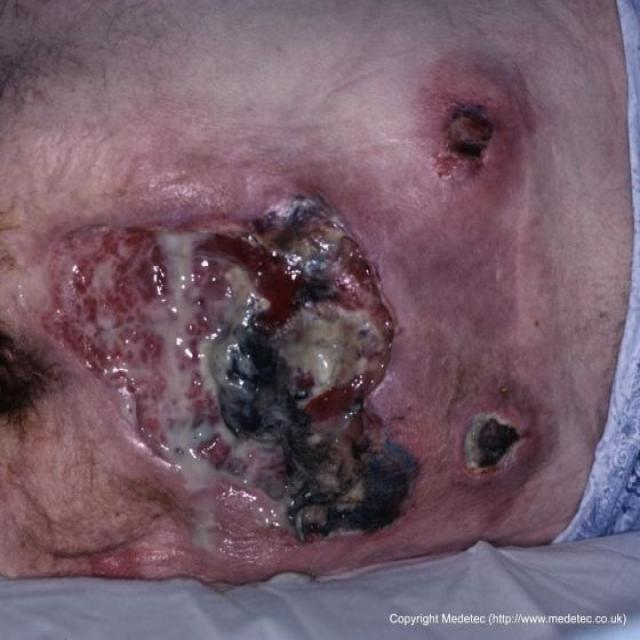Unstageable: (51, 196, 415, 539), (465, 413, 520, 469), (448, 106, 494, 159)
